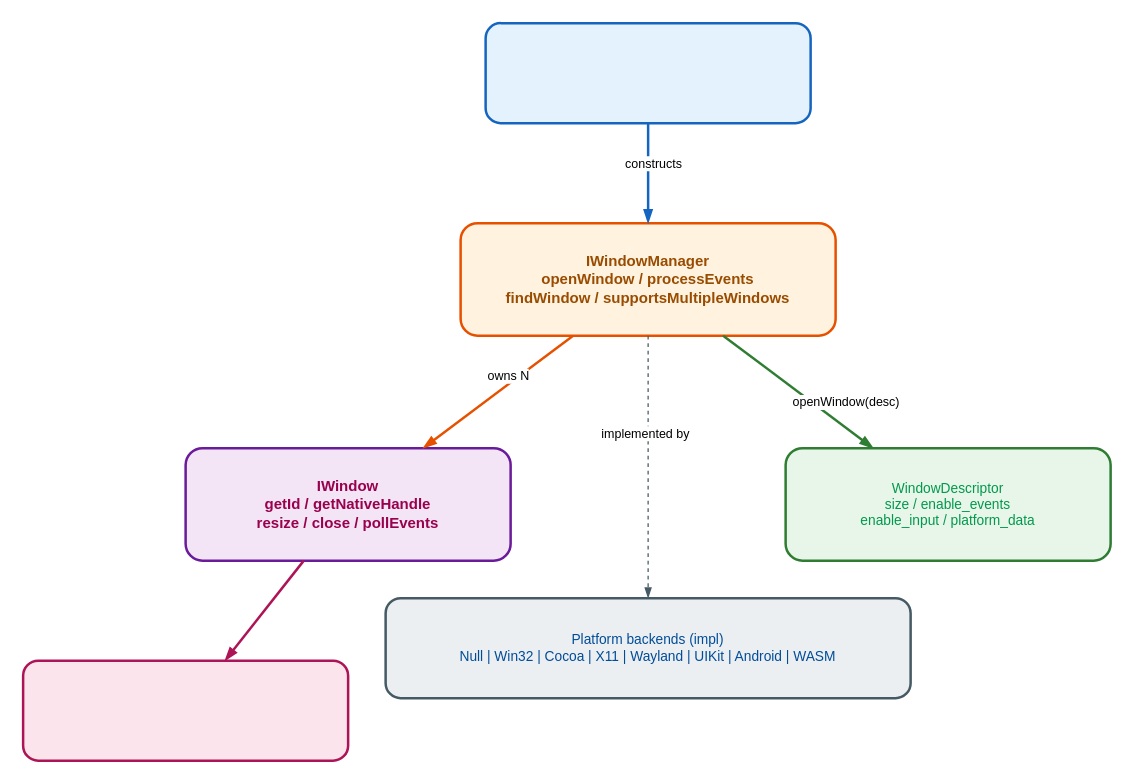
Image size: 1133x783. Some labels were removed from this diagram. The shapes that lost their labels are listed below. From the top down, each one's centre as x and y in pixels, then its label:
(x=647, y=72): WindowFactory createWindowManager() getVersion / getLastError
(x=185, y=710): NativeWindowHandle hwnd / ns_view / ui_view x11 / wayland / canvas_id
